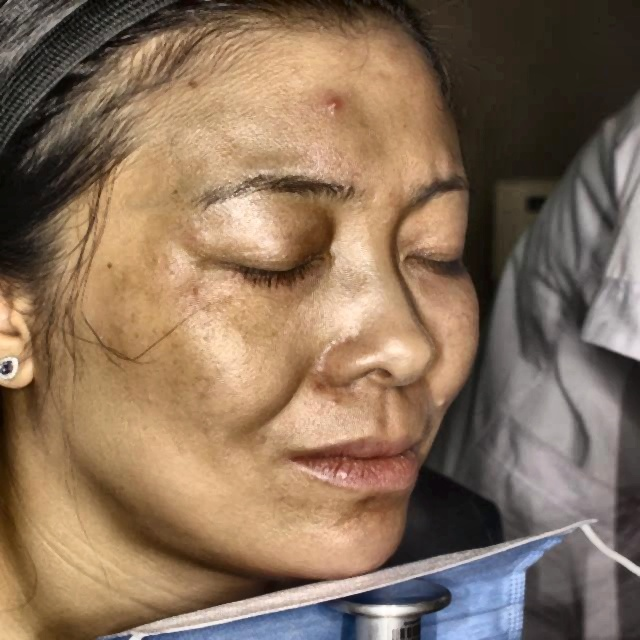comedone: (320, 90, 349, 120)
